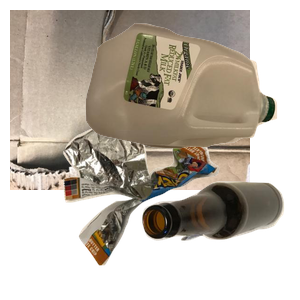cardboard: (10, 10, 250, 190)
glass: (140, 179, 300, 300)
plastic: (83, 21, 300, 162)
trash: (61, 123, 273, 300)
